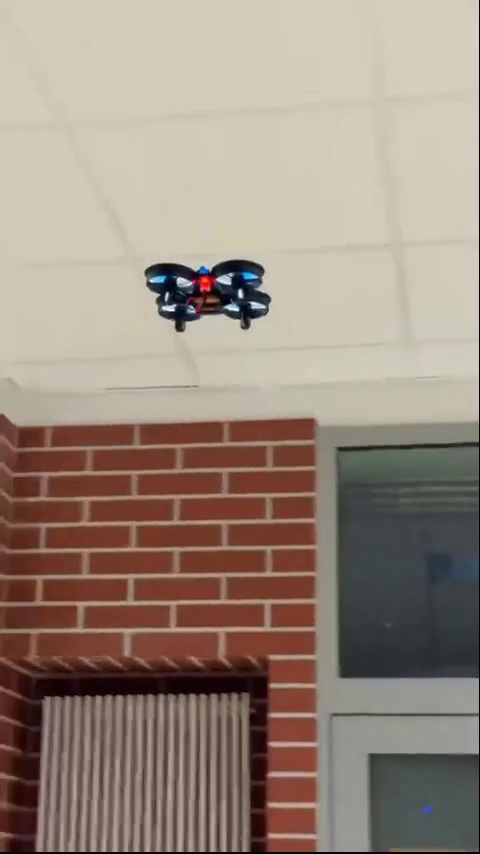drone: (139, 262, 271, 335)
